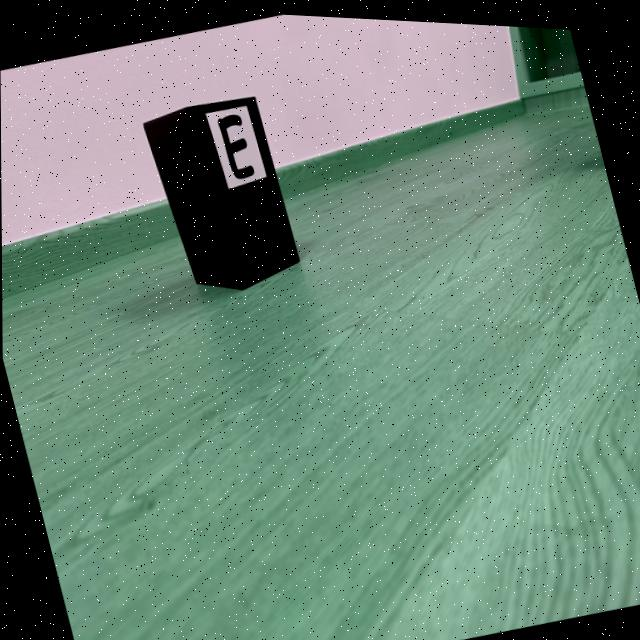E: (217, 111, 254, 177)
